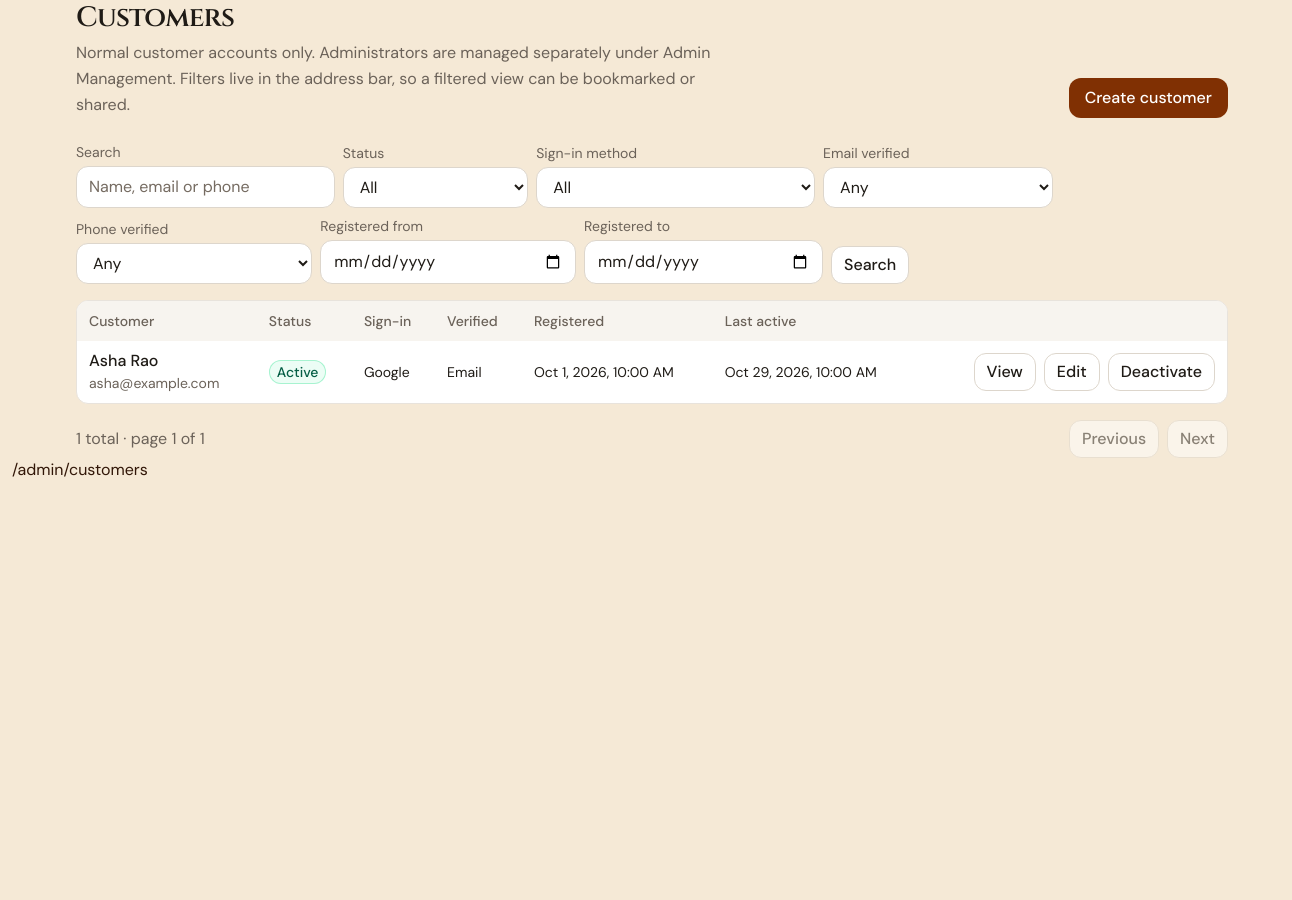
Test: Users page › opens the Customer 360 profile from a row and from a deep link
Click the button with aria-label "Open profile of Asha Rao": click(154, 371) [89, 349, 219, 393]
(page scrolled)
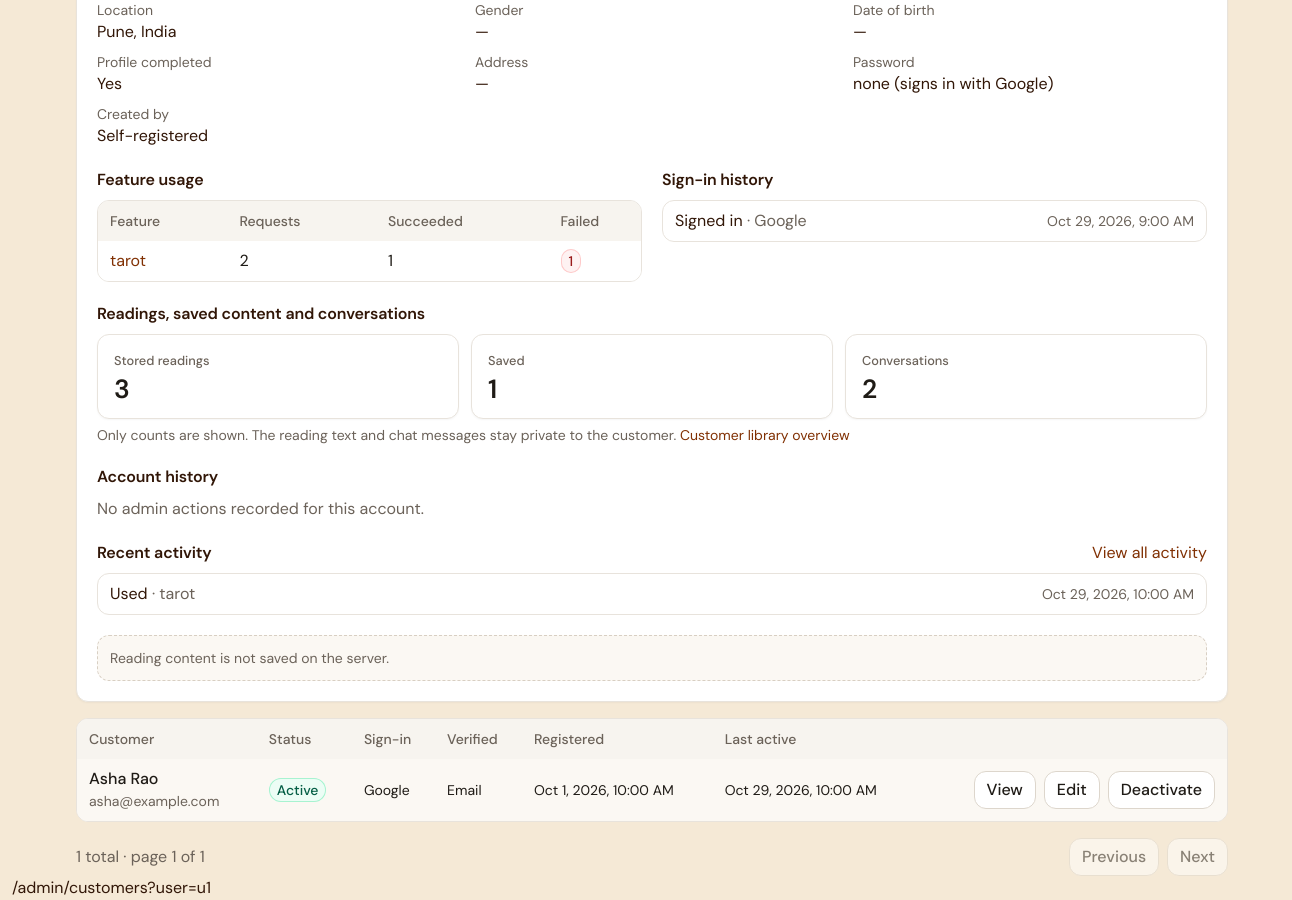
Check: the heading "Sign-in history" is shown, box [662, 169, 773, 190]
Check: the text "Signed in · Google" is shown, box [675, 209, 807, 233]
Check: the list item "Reading content is not saved on the server." is shown, box [110, 649, 389, 667]
